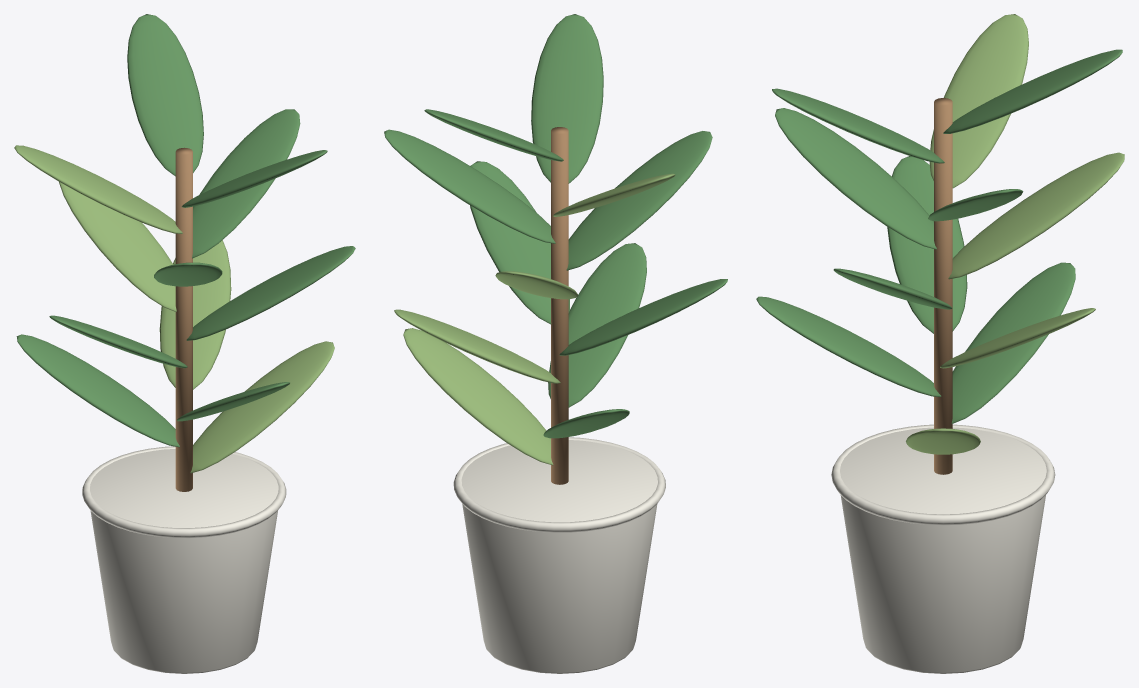
The model's file is atelier-indoor-tree.glb.
The picture shows the model from 3 angles, left to right: view 1: azimuth 30°, elevation 25°; view 2: azimuth 150°, elevation 25°; view 3: azimuth 270°, elevation 25°; orthographic projection. The views are drawn at different scales.
Parts seen in each view (by area): view 1: ceramic.039, leaf.003, leafLight.003, legs.135; view 2: ceramic.039, leaf.003, leafLight.003, legs.135; view 3: ceramic.039, leaf.003, leafLight.003, legs.135.
Boxes of the visible parts, left/top/right/bottom form: ceramic.039: left=82, top=446, right=286, bottom=673; leaf.003: left=16, top=14, right=355, bottom=447; leafLight.003: left=14, top=145, right=334, bottom=473; legs.135: left=175, top=147, right=192, bottom=491; ceramic.039: left=453, top=437, right=665, bottom=673; leaf.003: left=384, top=14, right=727, bottom=438; leafLight.003: left=394, top=173, right=675, bottom=465; legs.135: left=551, top=127, right=568, bottom=484; ceramic.039: left=831, top=424, right=1055, bottom=673; leaf.003: left=756, top=49, right=1122, bottom=423; leafLight.003: left=906, top=14, right=1124, bottom=454; legs.135: left=934, top=98, right=952, bottom=474.
Size of the model in its own units: 1.01 by 1.83 by 1.
